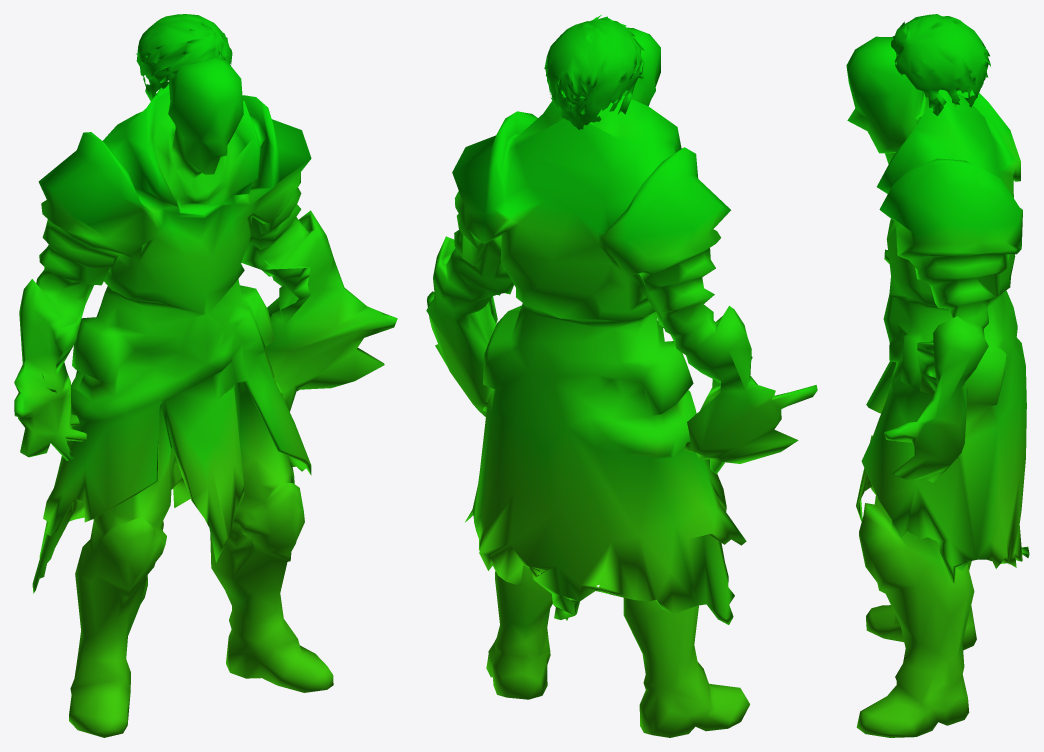
The model's file is compose_bandit_chief.glb.
The picture shows the model from 3 angles, left to right: view 1: azimuth 30°, elevation 25°; view 2: azimuth 150°, elevation 25°; view 3: azimuth 270°, elevation 25°; orthographic projection. The views are drawn at different scales.
Visible parts, largest first — view 1: compose_bandit_chief; view 2: compose_bandit_chief; view 3: compose_bandit_chief.
Boxes of the visible parts, <box> form: compose_bandit_chief: <box>14,14,397,737</box>; compose_bandit_chief: <box>426,14,817,737</box>; compose_bandit_chief: <box>846,14,1029,737</box>.
Bounding box in the file's own units: 1.2 × 2 × 0.5026.
